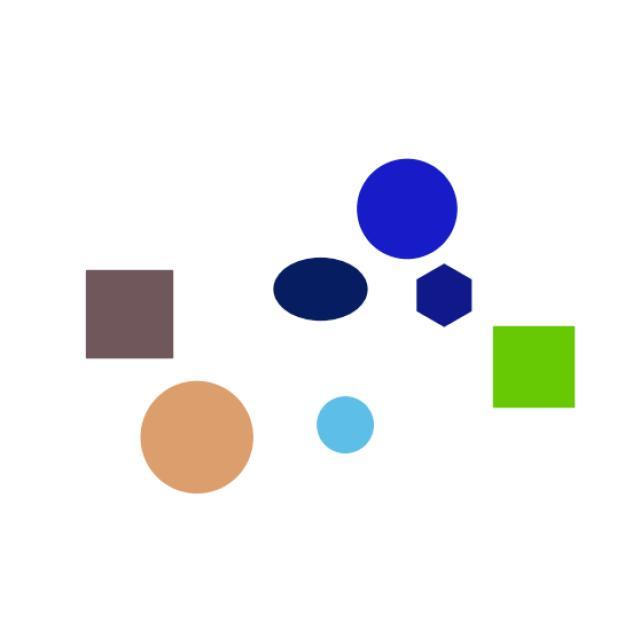Circle: (122, 374, 279, 509), (347, 147, 476, 265), (313, 381, 392, 464)
Hexagon: (410, 259, 483, 333)
Oval: (262, 256, 390, 334)
square: (68, 253, 204, 369), (479, 314, 596, 429)
